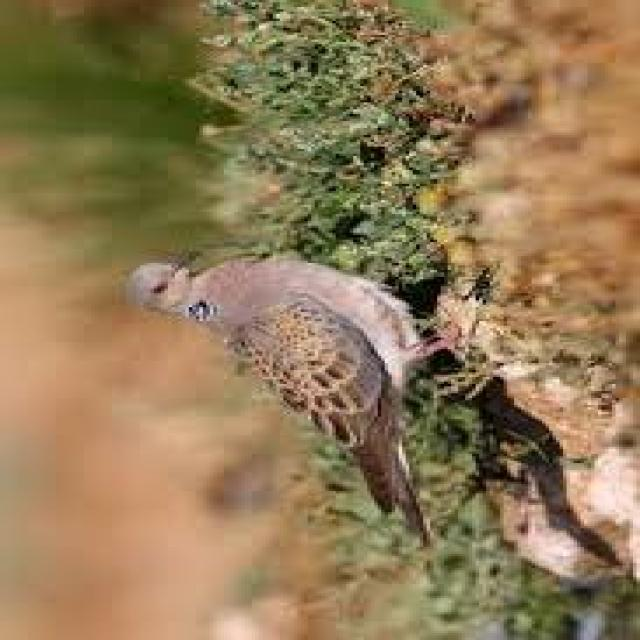pigeon: (111, 231, 456, 532)
